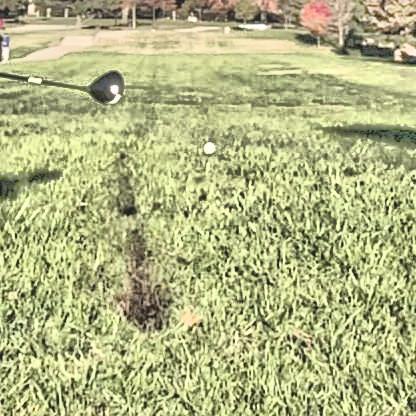golfball: (200, 137, 214, 152)
